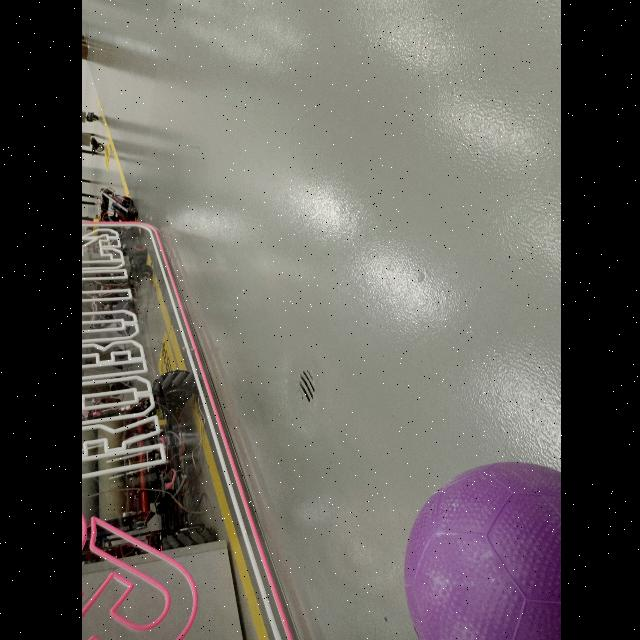P: (402, 462, 560, 640)
